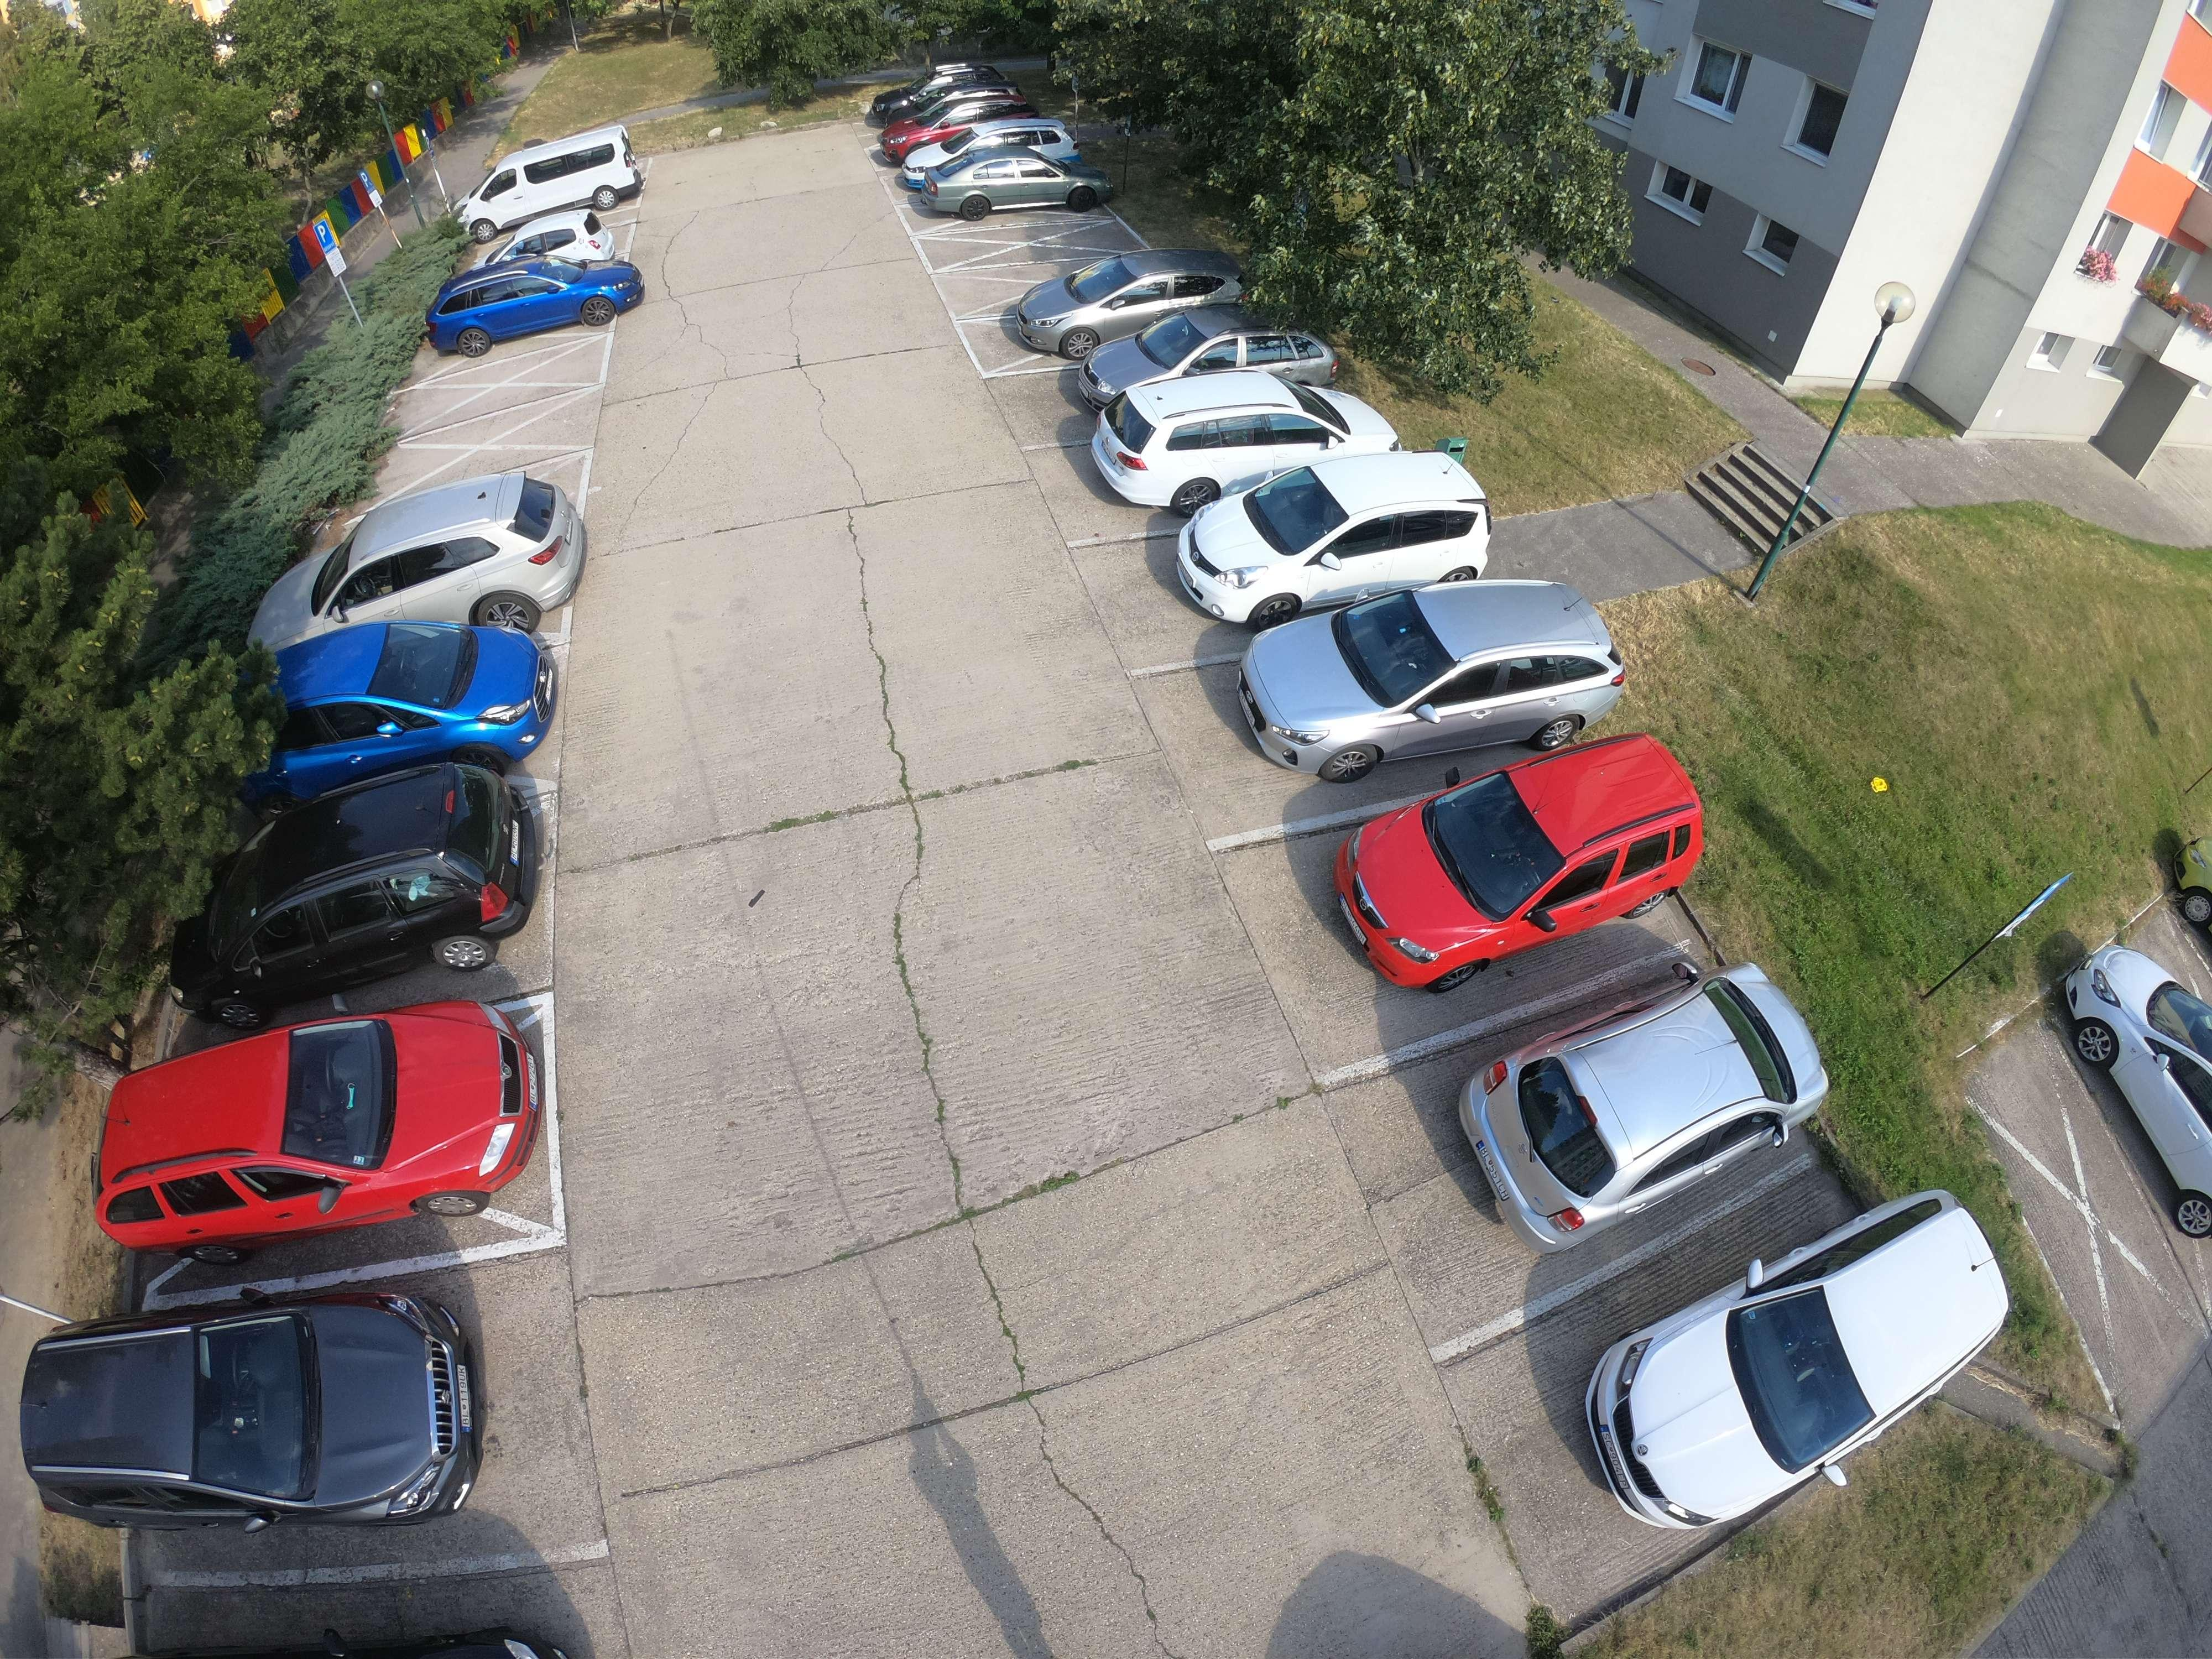empty: (1580, 1194, 2041, 1518), (99, 992, 559, 1256), (17, 1272, 510, 1516), (1454, 962, 1831, 1249), (1331, 728, 1742, 971), (204, 758, 556, 1011), (1228, 579, 1635, 767), (56, 1565, 606, 1657), (260, 603, 563, 770), (1183, 458, 1503, 613), (263, 488, 580, 641), (2066, 929, 2212, 1244), (1096, 376, 1393, 495), (1080, 303, 1336, 408), (1003, 247, 1228, 349), (427, 268, 646, 359), (909, 150, 1111, 235), (472, 129, 648, 223)
occupied: (420, 420, 540, 481), (446, 362, 556, 410), (960, 237, 1062, 279)
